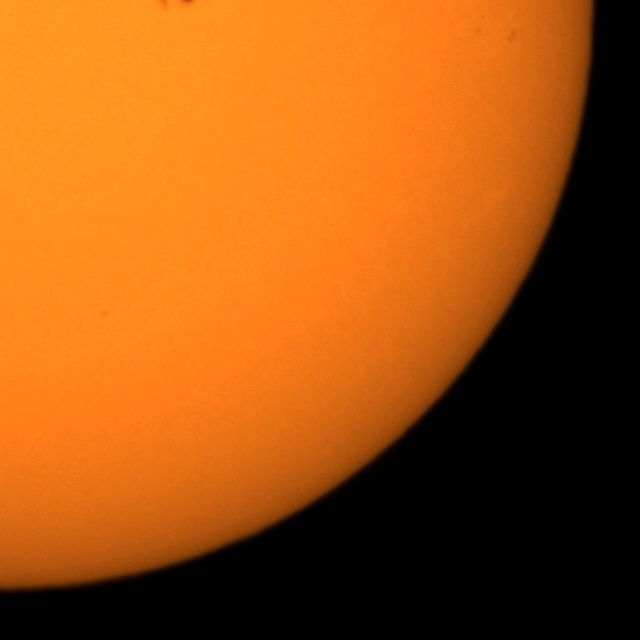sunspot: (156, 0, 200, 10)
